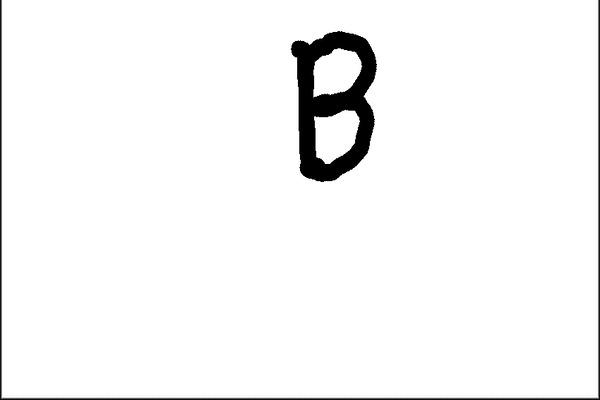B: (281, 23, 382, 187)
